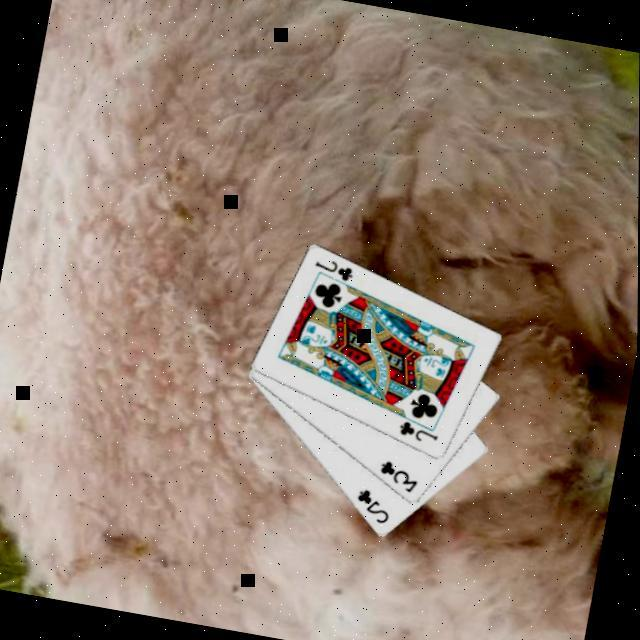2C: (349, 482, 397, 526)
3C: (373, 454, 424, 495)
JC: (393, 414, 442, 446), (309, 252, 358, 284)
